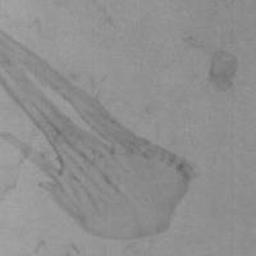Water spot: (0, 32, 196, 239), (207, 49, 239, 93)
